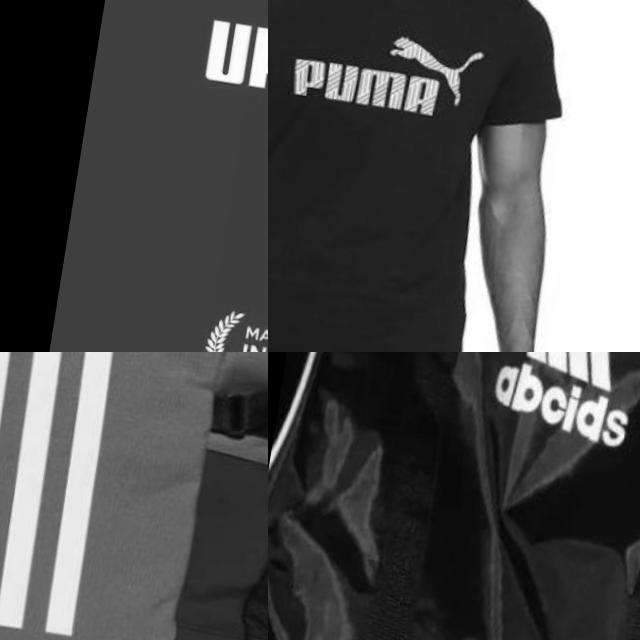ADIDAS_fake: (471, 352, 640, 464)
ADIDAS_original: (0, 352, 185, 640)
PUMA_fake: (165, 0, 268, 149)
PUMA_original: (268, 0, 513, 149)
